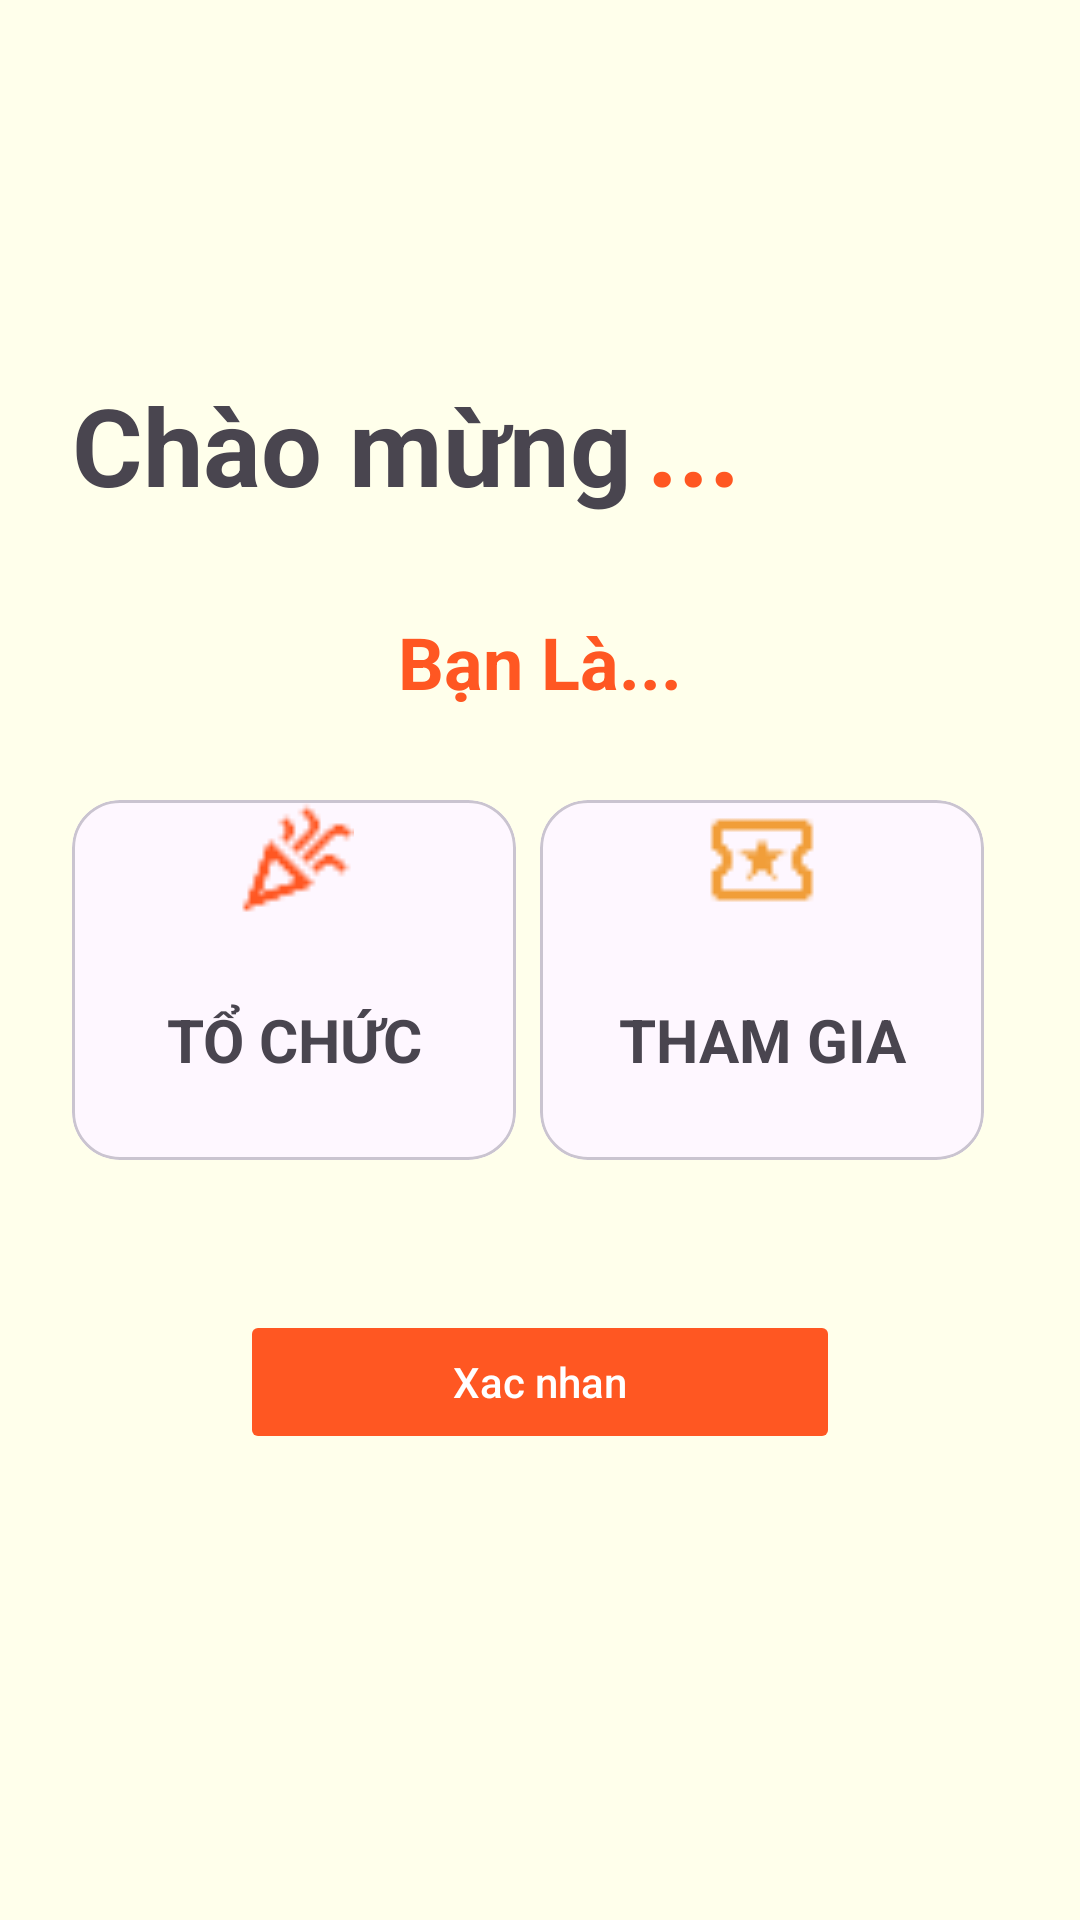

Screen size 1080×1920. Icon name, then its center in pixels as point (x, y):
ticket: point (762, 860)
